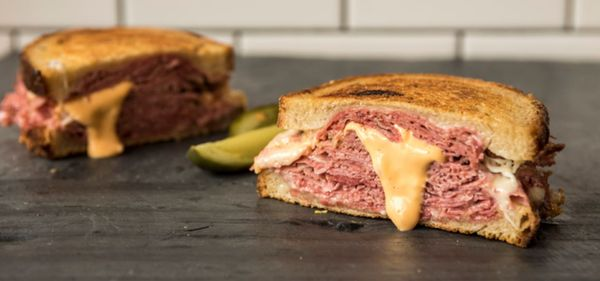soup: (252, 73, 566, 247), (0, 26, 246, 162)
